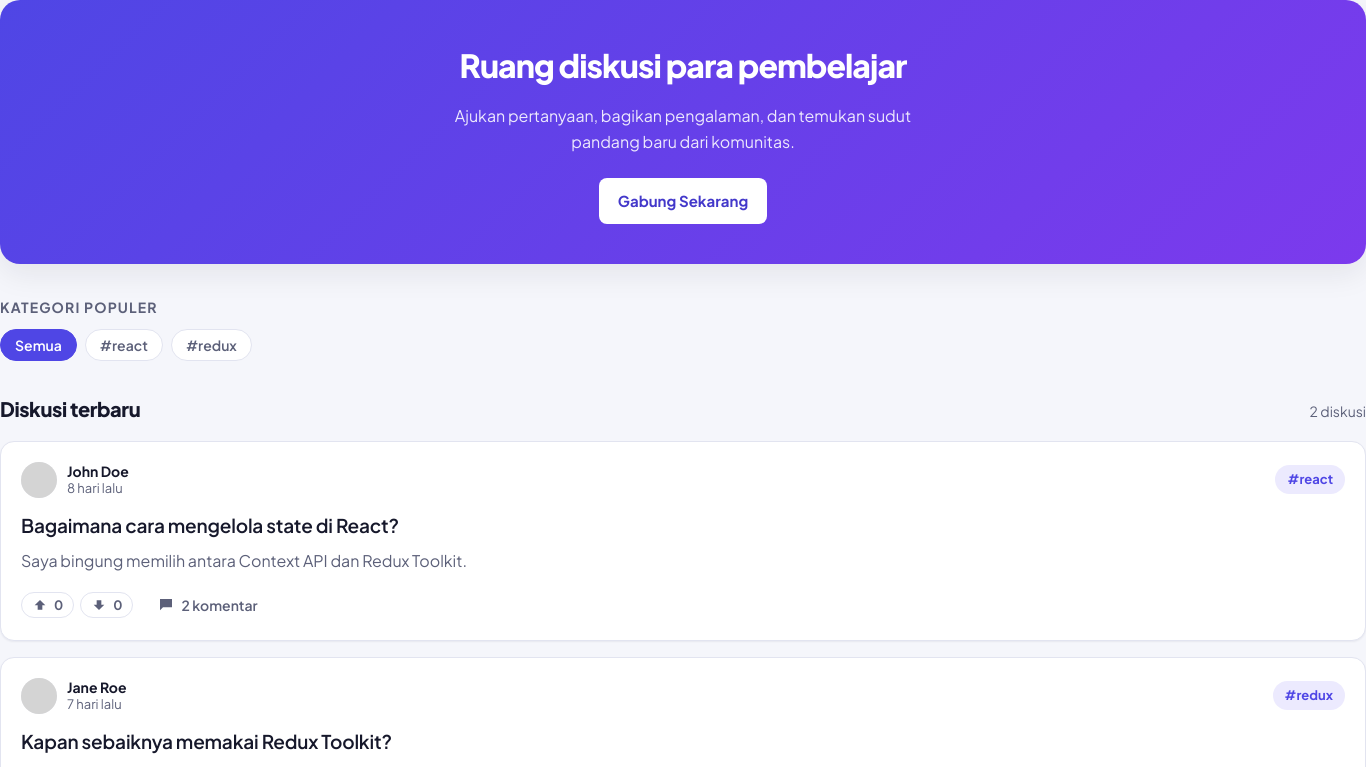
Test: HomePage integration › harus menyaring daftar thread ketika sebuah kategori dipilih
Click the button "#react" at {"x": 124, "y": 345}, box [85,329,163,361]
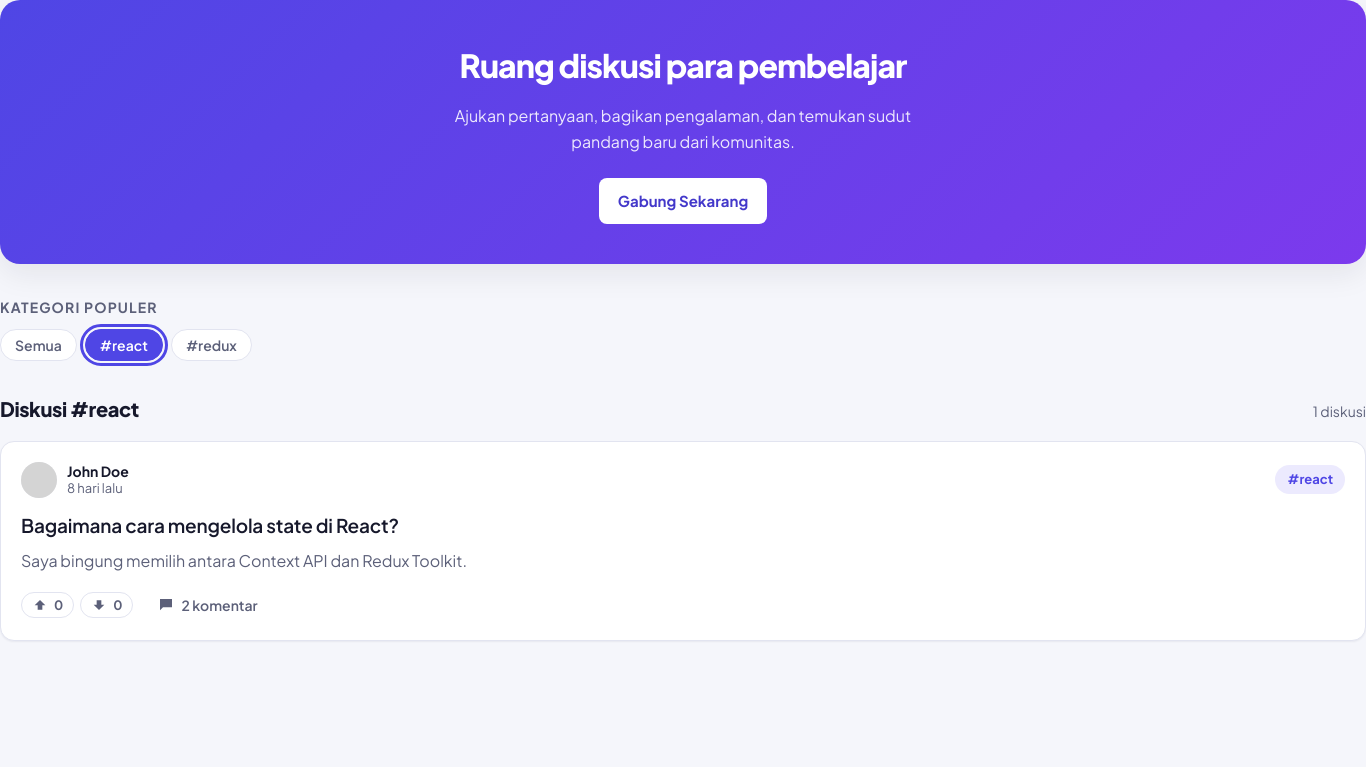
Expected: the link "Bagaimana cara mengelola state di React?" is shown, [21,513,399,537]
Expected: the link "Kapan sebaiknya memakai Redux Toolkit?" is gone
Expected: the text "1 diskusi" is shown, [1313,400,1365,422]
